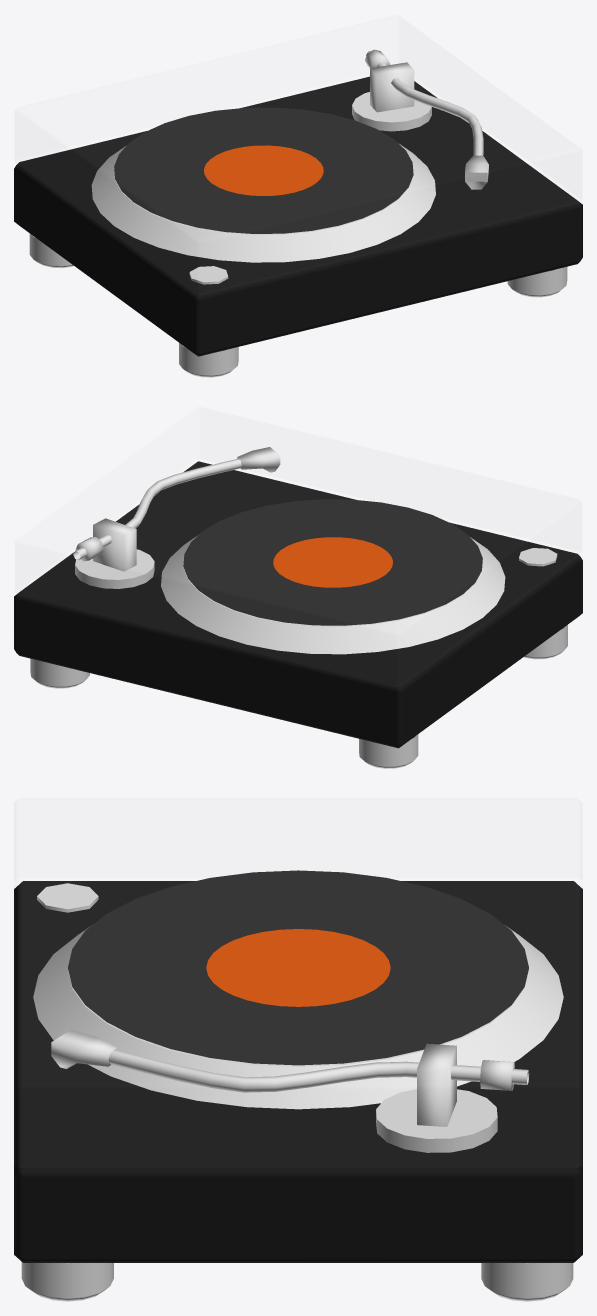
File: record-player.glb
3 views of the same model, one above another, from view 1: azimuth 30°, elevation 25°; view 2: azimuth 150°, elevation 25°; view 3: azimuth 270°, elevation 25° (orthographic). The views are drawn at different scales.
Parts seen in each view (by area): view 1: Body, Circle.002, Cylinder, Cylinder.004, Cylinder.001, Cube.001, BézierCurve, Cube, Cylinder.003; view 2: Body, Circle.002, Cylinder, Cylinder.004, Cylinder.001, Cube.001, BézierCurve, Cube, Cylinder.003; view 3: Body, Circle.002, Cylinder, Cylinder.004, BézierCurve, Cylinder.001, Cube.001, Cube, Cylinder.003, Cylinder.002.
Part boxes in pixels (left/top/right/bottom): Body: left=14, top=76, right=582, bottom=356; Circle.002: left=114, top=107, right=413, bottom=233; Cylinder: left=91, top=144, right=435, bottom=262; Cylinder.004: left=29, top=233, right=567, bottom=377; Cylinder.001: left=352, top=92, right=431, bottom=131; Cube.001: left=370, top=62, right=414, bottom=112; BézierCurve: left=366, top=50, right=483, bottom=155; Cube: left=465, top=155, right=488, bottom=189; Cylinder.003: left=189, top=266, right=228, bottom=284; Body: left=14, top=461, right=582, bottom=748; Circle.002: left=183, top=499, right=482, bottom=625; Cylinder: left=161, top=535, right=505, bottom=654; Cylinder.004: left=30, top=625, right=567, bottom=768; Cylinder.001: left=75, top=549, right=154, bottom=588; Cube.001: left=93, top=518, right=136, bottom=571; BézierCurve: left=73, top=458, right=241, bottom=559; Cube: left=237, top=447, right=280, bottom=472; Cylinder.003: left=519, top=548, right=557, bottom=566; Body: left=14, top=881, right=582, bottom=1262; Circle.002: left=68, top=870, right=528, bottom=1065; Cylinder: left=33, top=926, right=563, bottom=1109; Cylinder.004: left=21, top=1262, right=573, bottom=1301; BézierCurve: left=108, top=1049, right=529, bottom=1092; Cylinder.001: left=376, top=1089, right=497, bottom=1152; Cube.001: left=417, top=1043, right=456, bottom=1126; Cube: left=51, top=1029, right=116, bottom=1068; Cylinder.003: left=37, top=883, right=98, bottom=912; Cylinder.002: left=480, top=1060, right=514, bottom=1090.
Size of the model in its own units: 0.45 by 0.16 by 0.37.
